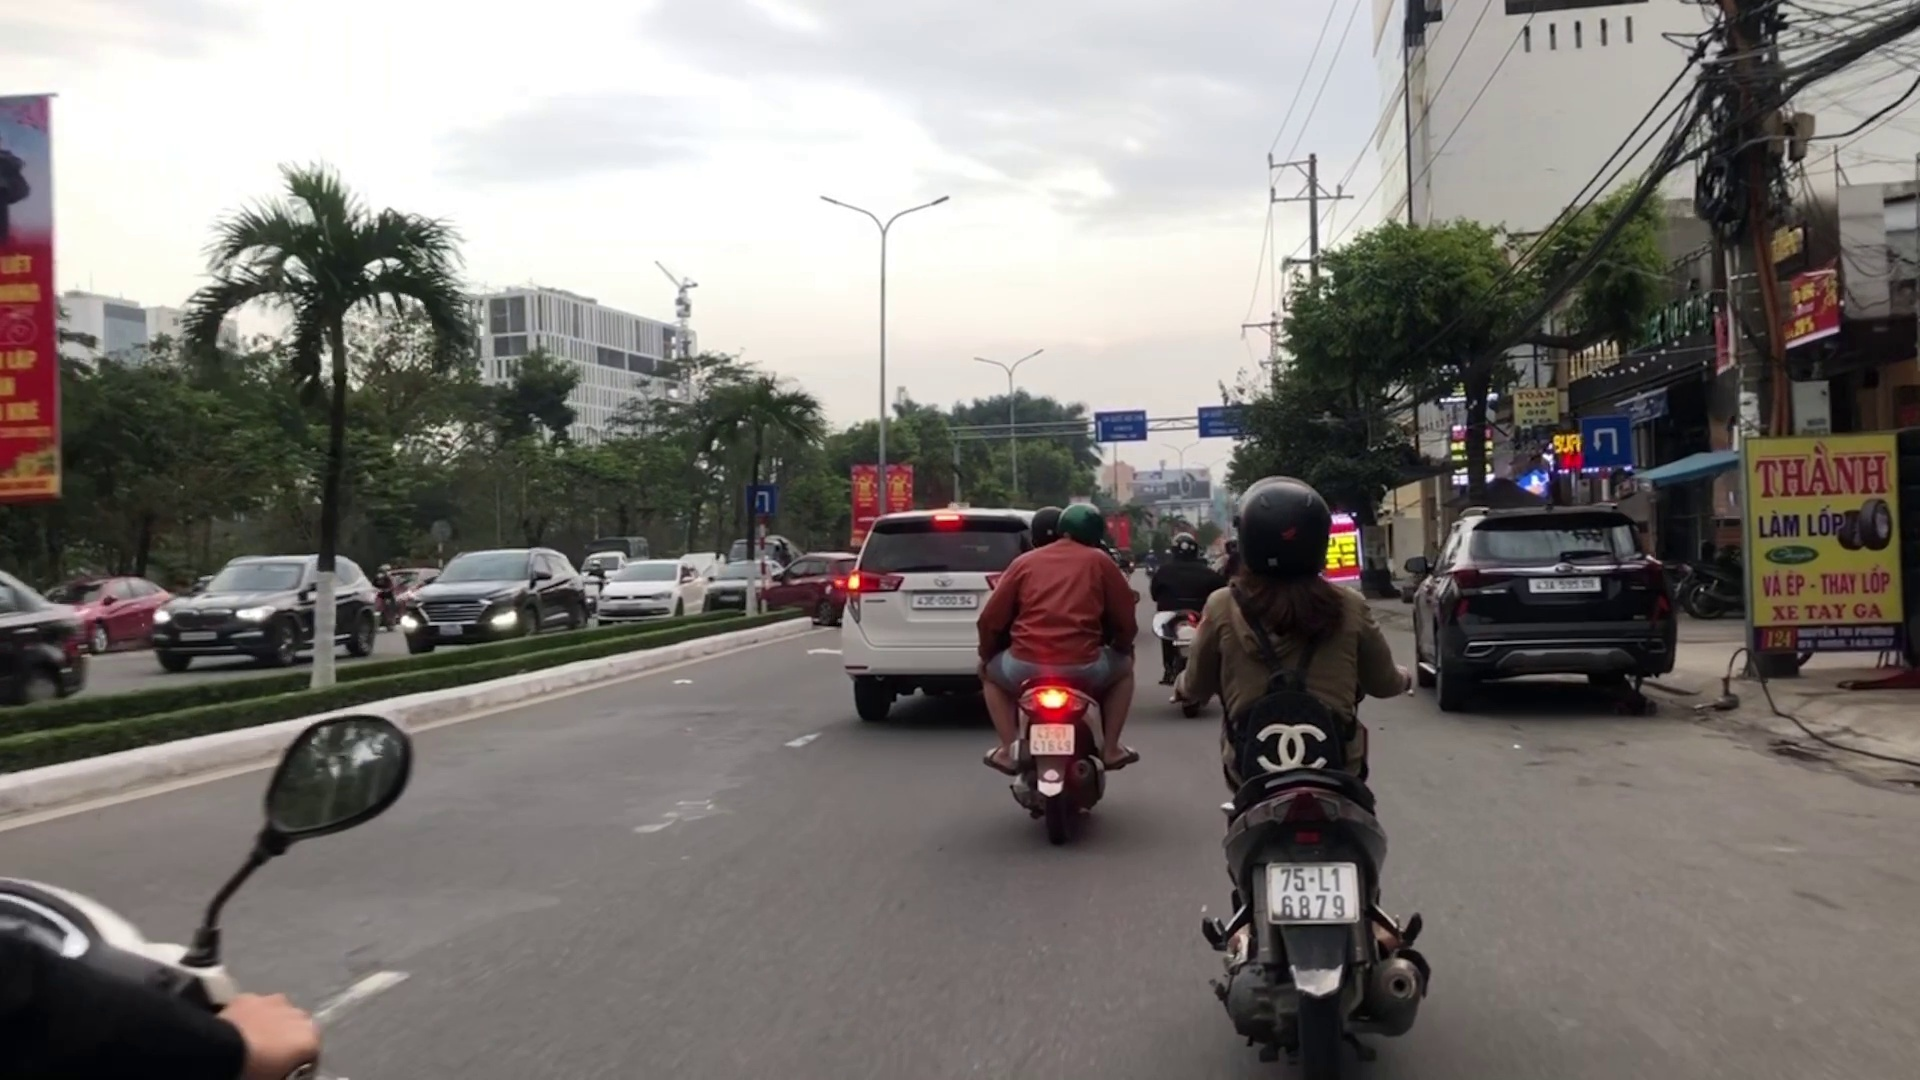Bien khac: (1581, 415, 1633, 462), (746, 484, 774, 516)
